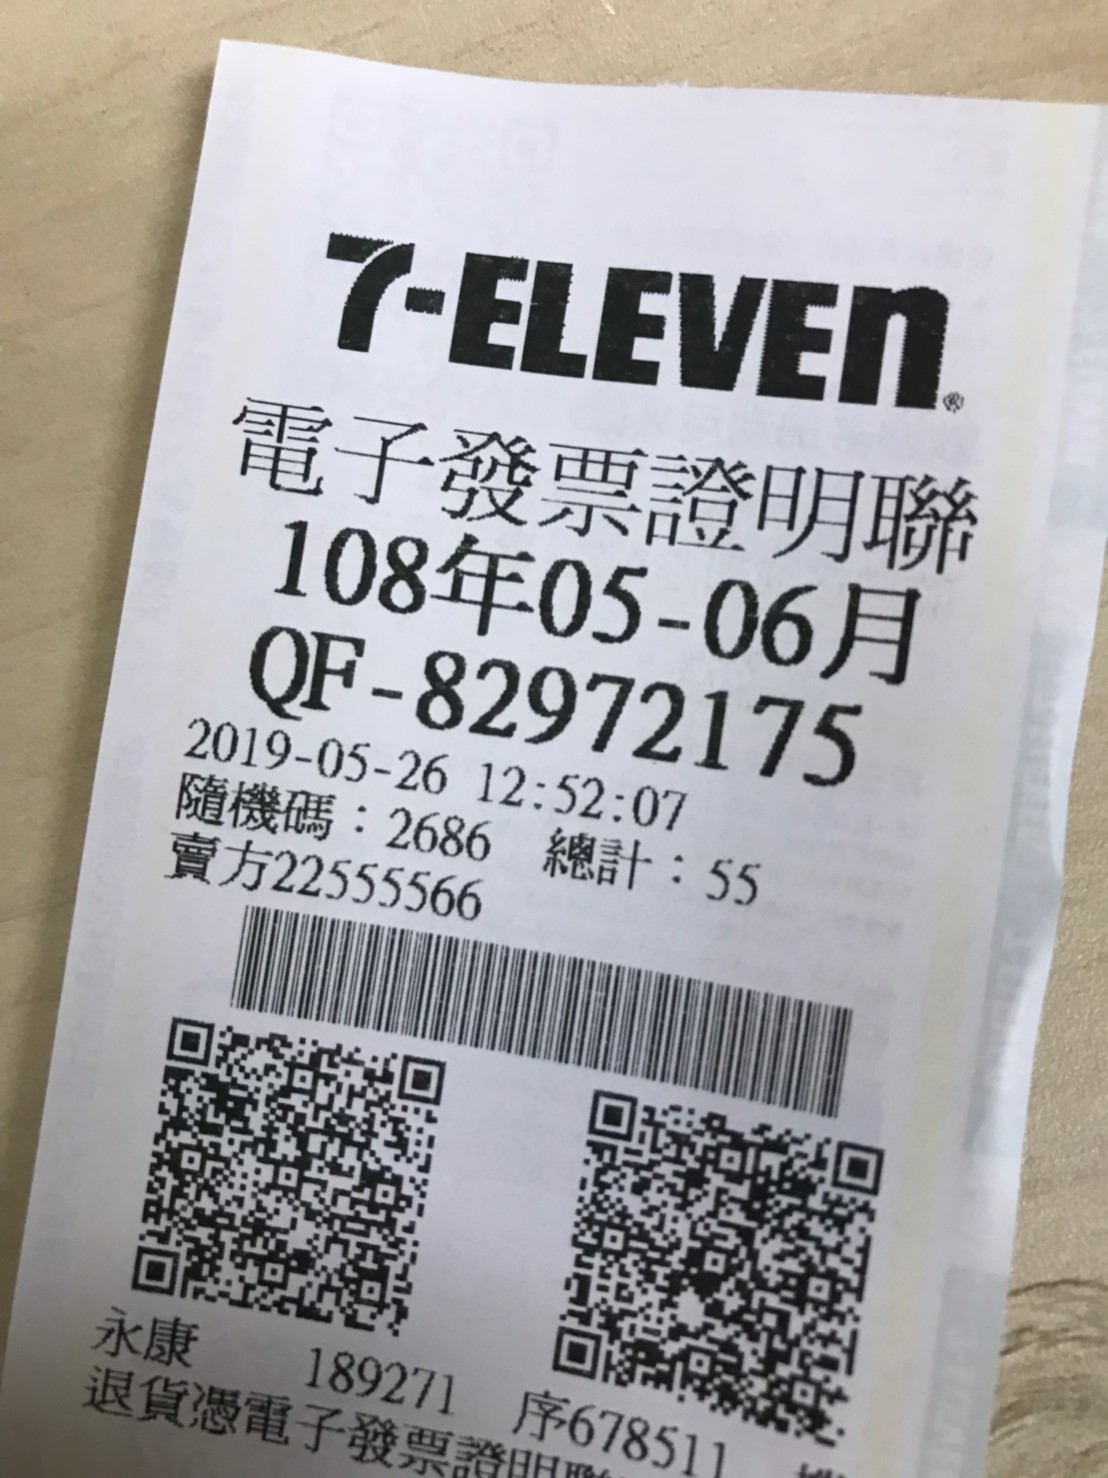Date_New: (271, 510, 923, 696)
Number_New: (411, 644, 871, 788)
